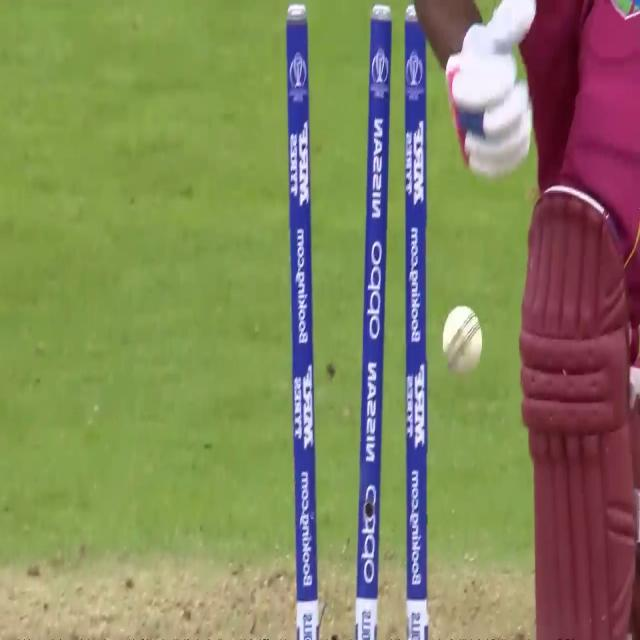ball: (440, 300, 484, 385)
